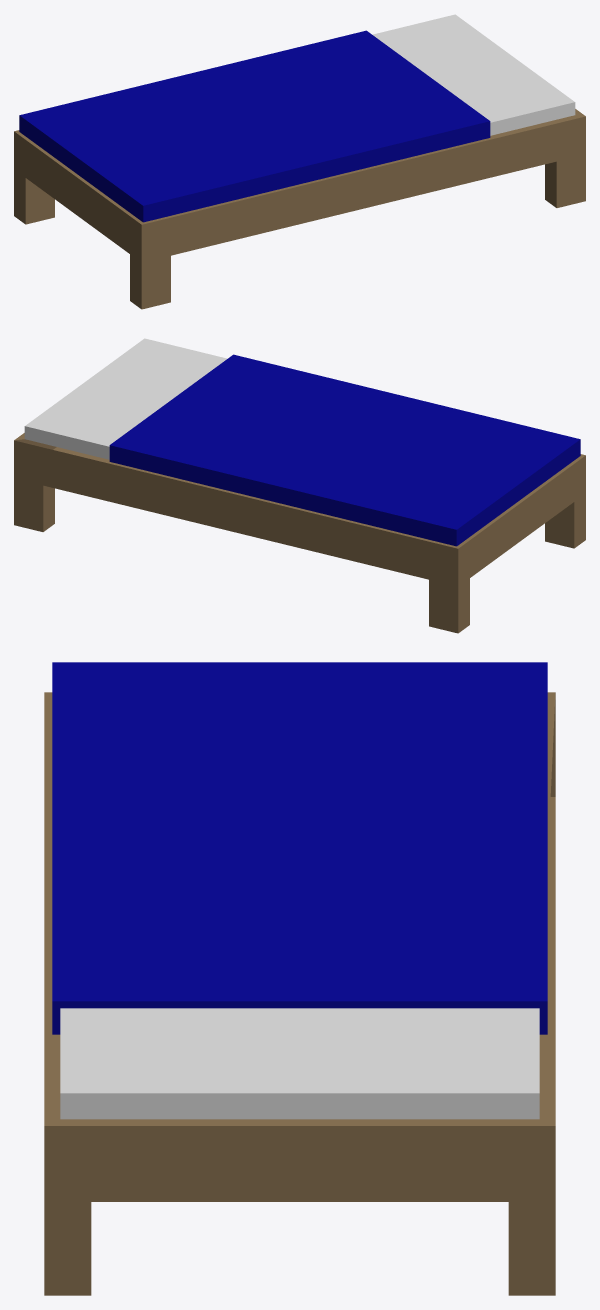
The model's file is Bed.fbx.
3 views of the same model, one above another, from view 1: azimuth 30°, elevation 25°; view 2: azimuth 150°, elevation 25°; view 3: azimuth 270°, elevation 25° (orthographic). The views are drawn at different scales.
Visible parts, largest first — view 1: pCube1; view 2: pCube1; view 3: pCube1.
Boxes of the visible parts, box(x1,y1,x2,y2) form: pCube1: box(14, 14, 585, 309); pCube1: box(14, 338, 585, 633); pCube1: box(44, 662, 555, 1295).
Bounding box in the file's own units: 6.48 × 1.41 × 3.23.
